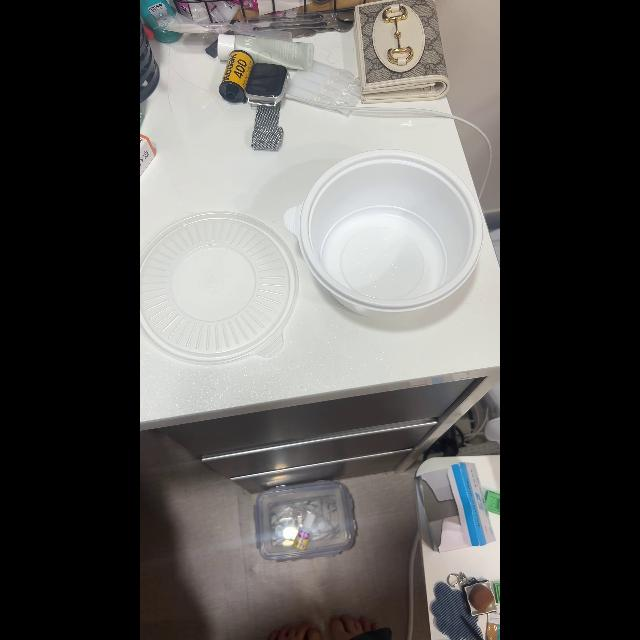clean: (286, 147, 478, 320), (142, 214, 296, 362)
